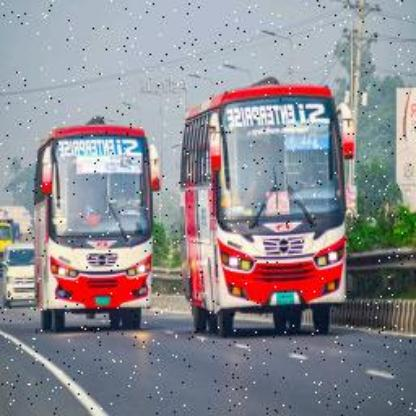bus: (181, 70, 359, 344), (36, 121, 152, 337), (1, 216, 12, 256)
